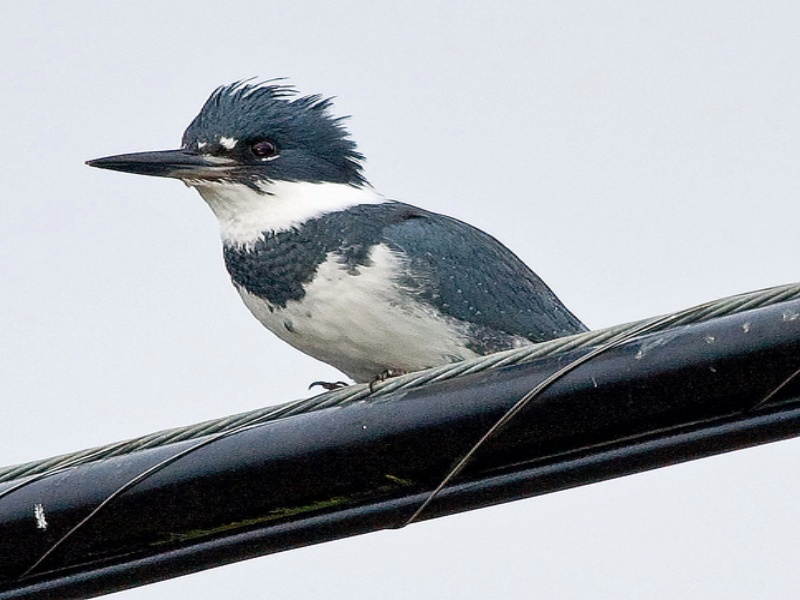kingfisher: (82, 73, 625, 420)
